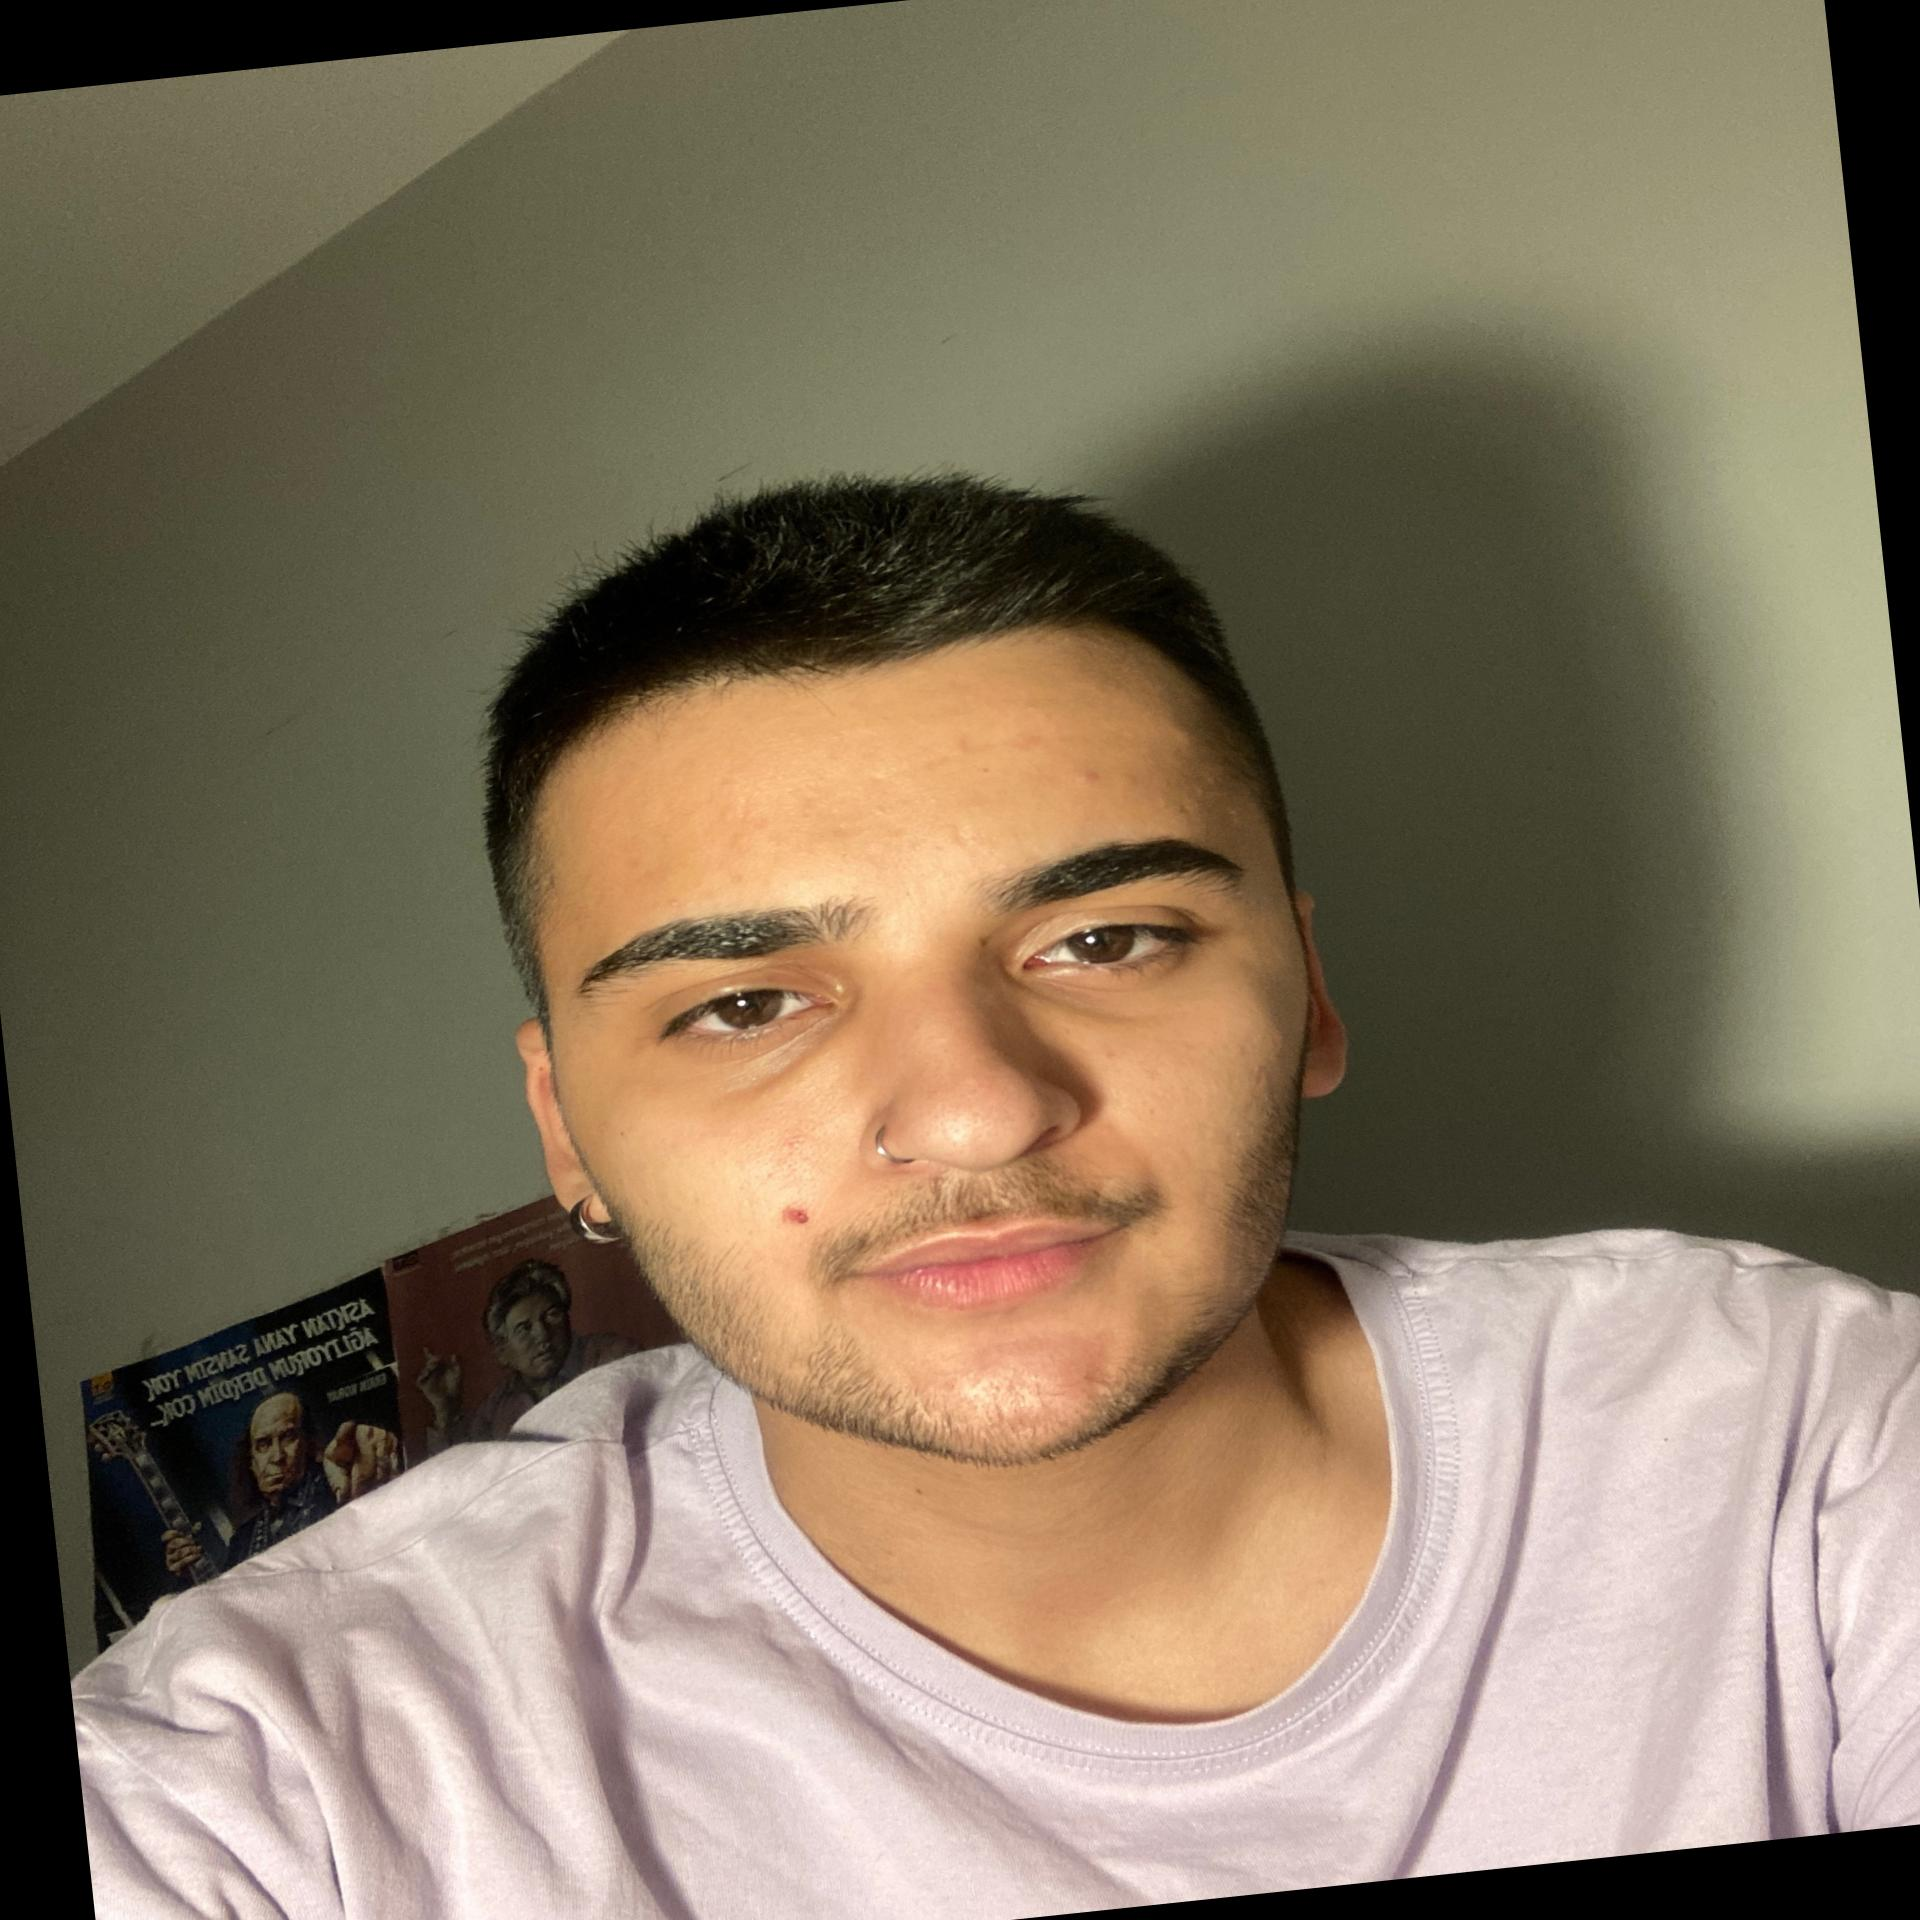Acne: (774, 1197, 816, 1231), (1073, 768, 1104, 788)
Blackhead: (937, 1092, 1030, 1153)
Englarged Pores: (737, 1102, 863, 1199)
